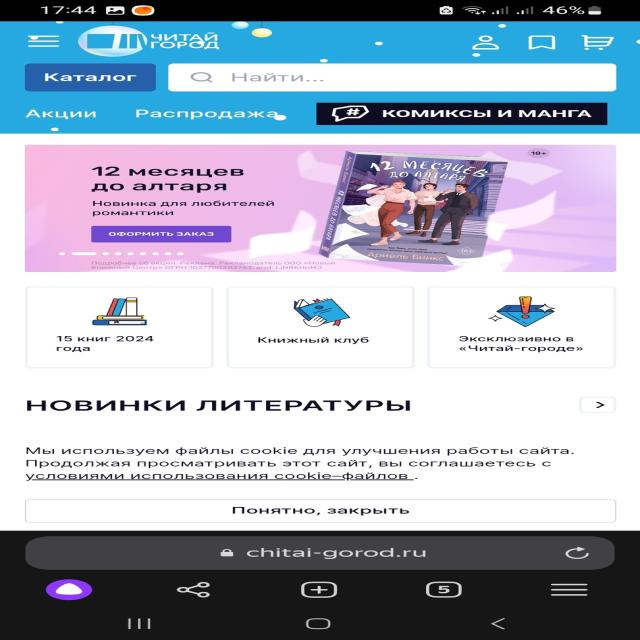button: (26, 499, 617, 524)
site: (0, 434, 640, 528)
